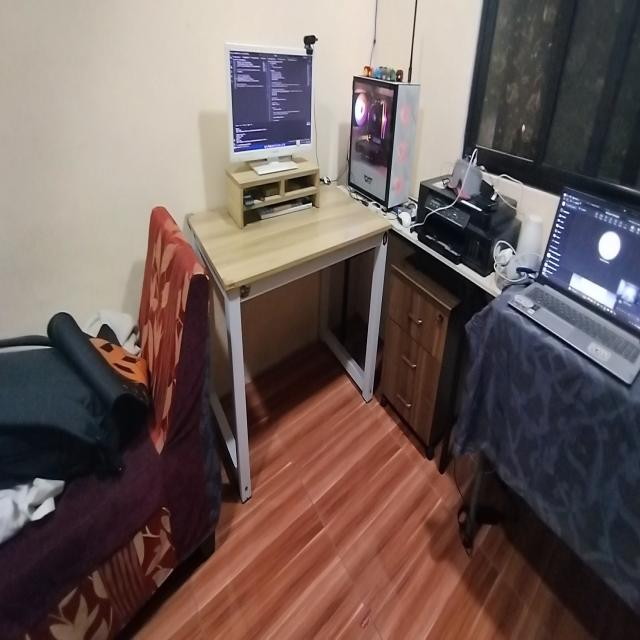table: (188, 172, 392, 471)
